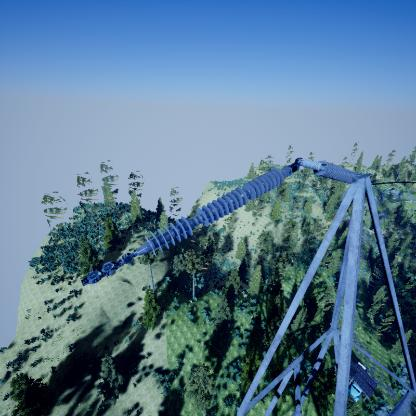insulator: (143, 168, 284, 256), (313, 159, 378, 189)
